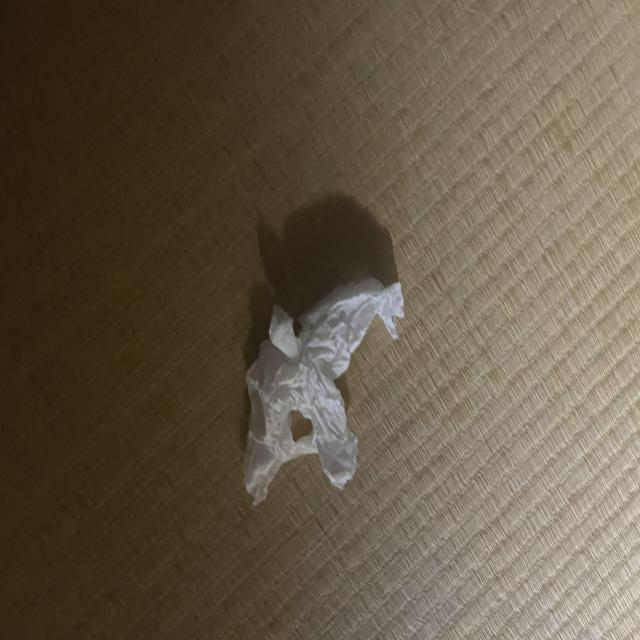Paper: (232, 279, 404, 496)
